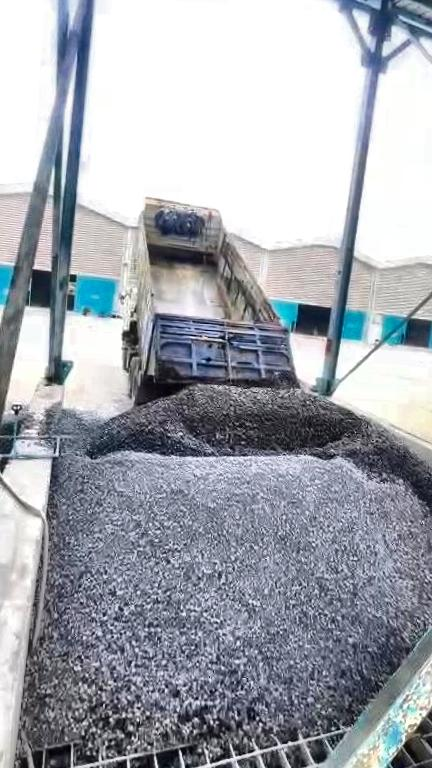gravel: (25, 400, 432, 754), (87, 383, 432, 523)
sand: (419, 404, 432, 455)
